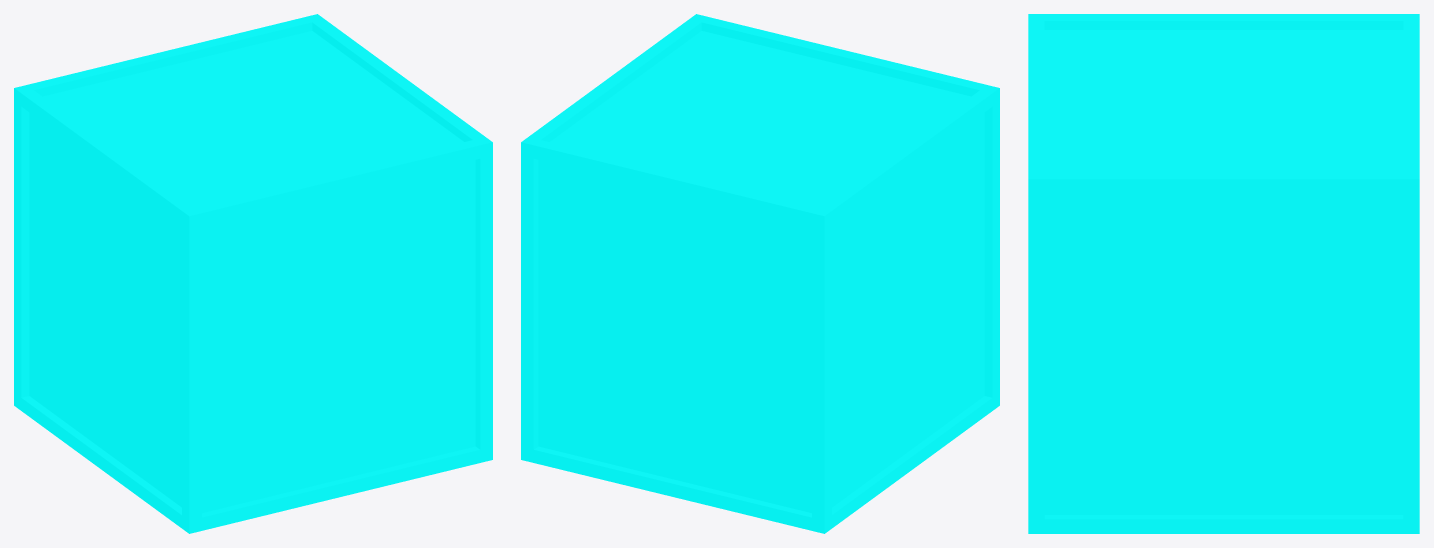
The model's file is SFI0410008.fbx.
3 views of the same model, side by side, from view 1: azimuth 30°, elevation 25°; view 2: azimuth 150°, elevation 25°; view 3: azimuth 270°, elevation 25° (orthographic). The views are drawn at different scales.
Visible parts, largest first — view 1: smSFI0410008; view 2: smSFI0410008; view 3: smSFI0410008.
Boxes of the visible parts, x1,y1,x2,y2 form: smSFI0410008: (14,14,492,533); smSFI0410008: (521,14,999,533); smSFI0410008: (1028,14,1419,533).
Size of the model in its own units: 100 by 100 by 100.
